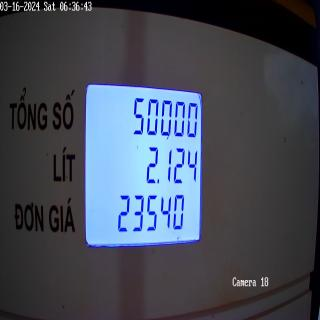screen: (82, 72, 207, 251)
